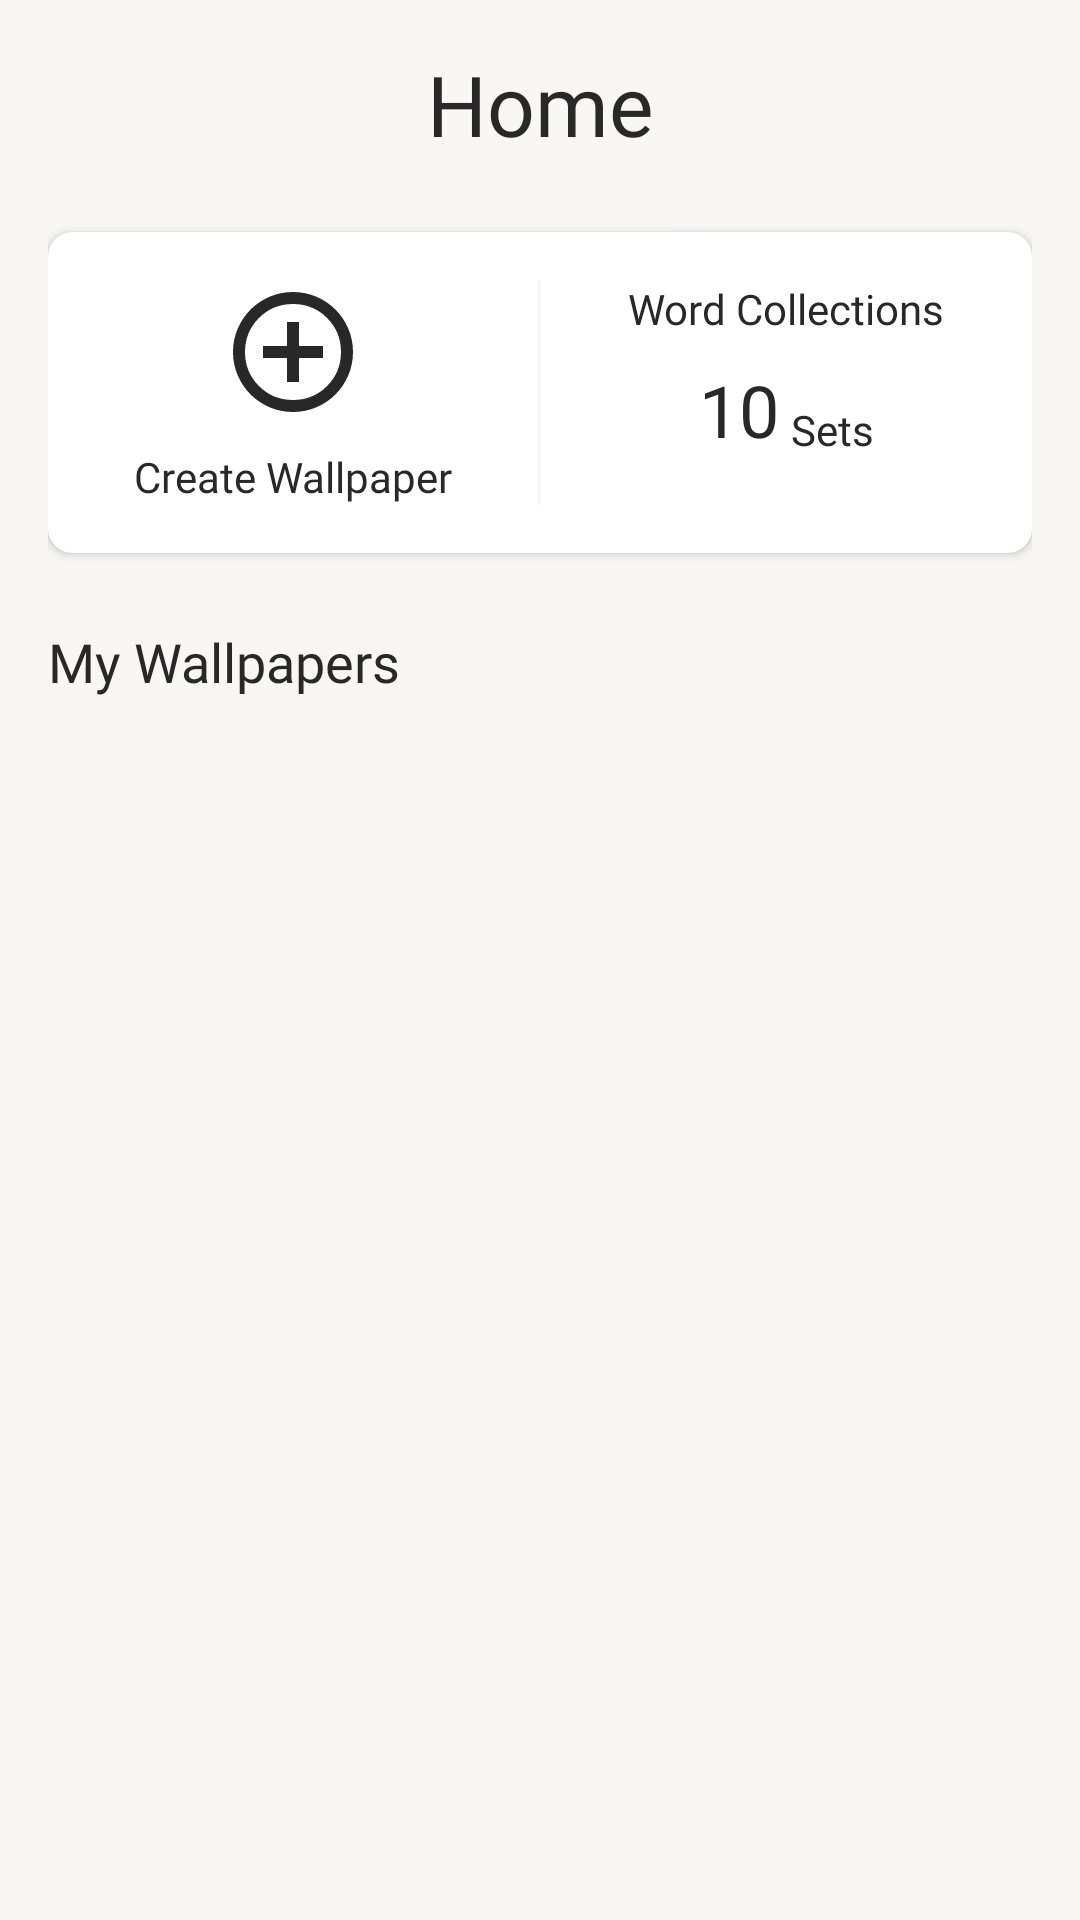

Icons on this 1080x1920 Android screen, each with the point to tap as [x,y]:
add circle: [293,352]
